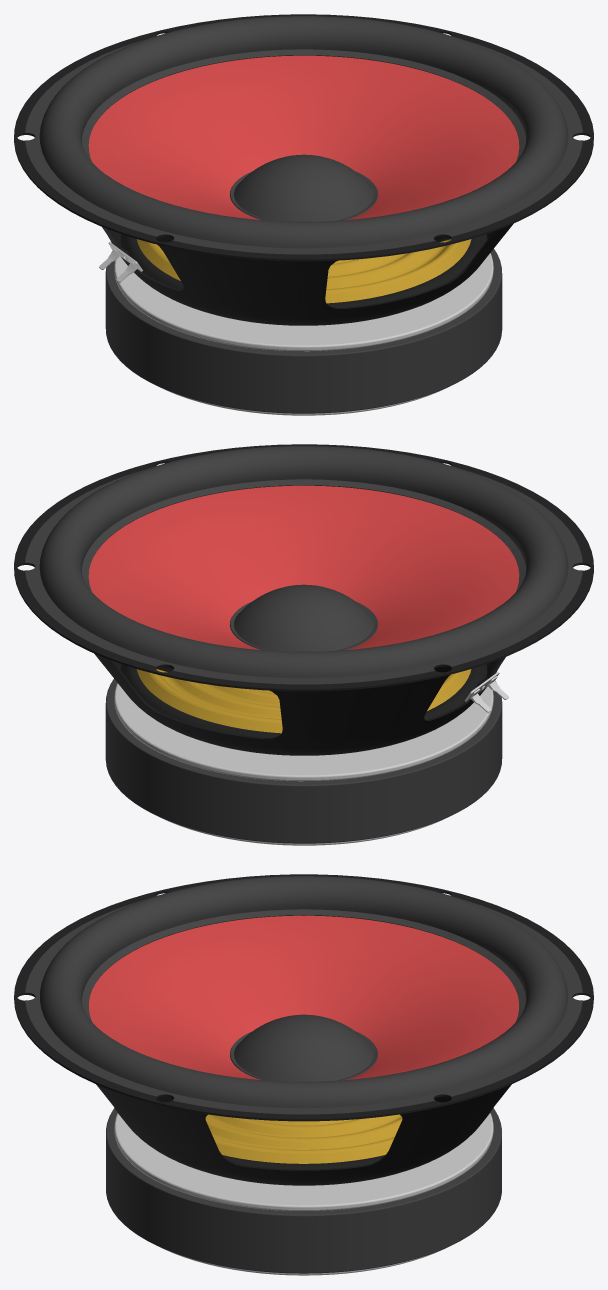
Rendered from WOOFER.fbx.
3 views of the same model, one above another, from view 1: azimuth 30°, elevation 25°; view 2: azimuth 150°, elevation 25°; view 3: azimuth 270°, elevation 25° (orthographic).
Parts seen in each view (by area): view 1: Booleana_1, Disco_3, Tubo, Booleana_1_2, Tubo_1, Sfera, Disco, Cilindro_2; view 2: Booleana_1, Disco_3, Tubo, Booleana_1_2, Tubo_1, Sfera, Disco, Cilindro_2; view 3: Booleana_1, Disco_3, Tubo, Booleana_1_2, Tubo_1, Sfera, Disco, Cilindro_2.
Part boxes in pixels (left/top/right/bottom): Booleana_1: left=25, top=16, right=582, bottom=254; Disco_3: left=88, top=55, right=519, bottom=219; Tubo: left=105, top=249, right=502, bottom=413; Booleana_1_2: left=14, top=14, right=593, bottom=325; Tubo_1: left=114, top=253, right=493, bottom=351; Sfera: left=230, top=154, right=378, bottom=221; Disco: left=137, top=239, right=471, bottom=303; Cilindro_2: left=158, top=386, right=449, bottom=415; Booleana_1: left=25, top=446, right=582, bottom=684; Disco_3: left=88, top=485, right=519, bottom=649; Tubo: left=105, top=679, right=502, bottom=843; Booleana_1_2: left=14, top=444, right=593, bottom=755; Tubo_1: left=114, top=683, right=493, bottom=781; Sfera: left=229, top=584, right=377, bottom=651; Disco: left=137, top=669, right=471, bottom=733; Cilindro_2: left=158, top=816, right=449, bottom=845; Booleana_1: left=25, top=876, right=582, bottom=1114; Disco_3: left=89, top=915, right=518, bottom=1079; Tubo: left=106, top=1108, right=501, bottom=1273; Booleana_1_2: left=14, top=874, right=593, bottom=1185; Tubo_1: left=114, top=1113, right=493, bottom=1210; Sfera: left=230, top=1014, right=377, bottom=1081; Disco: left=205, top=1114, right=402, bottom=1163; Cilindro_2: left=161, top=1247, right=446, bottom=1275.
Bounding box in the file's own units: 253 × 103 × 253.
